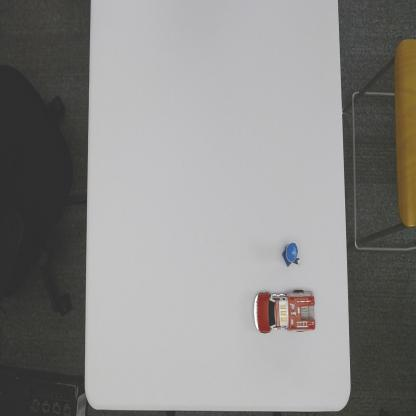Firetruck: (253, 288, 316, 335)
